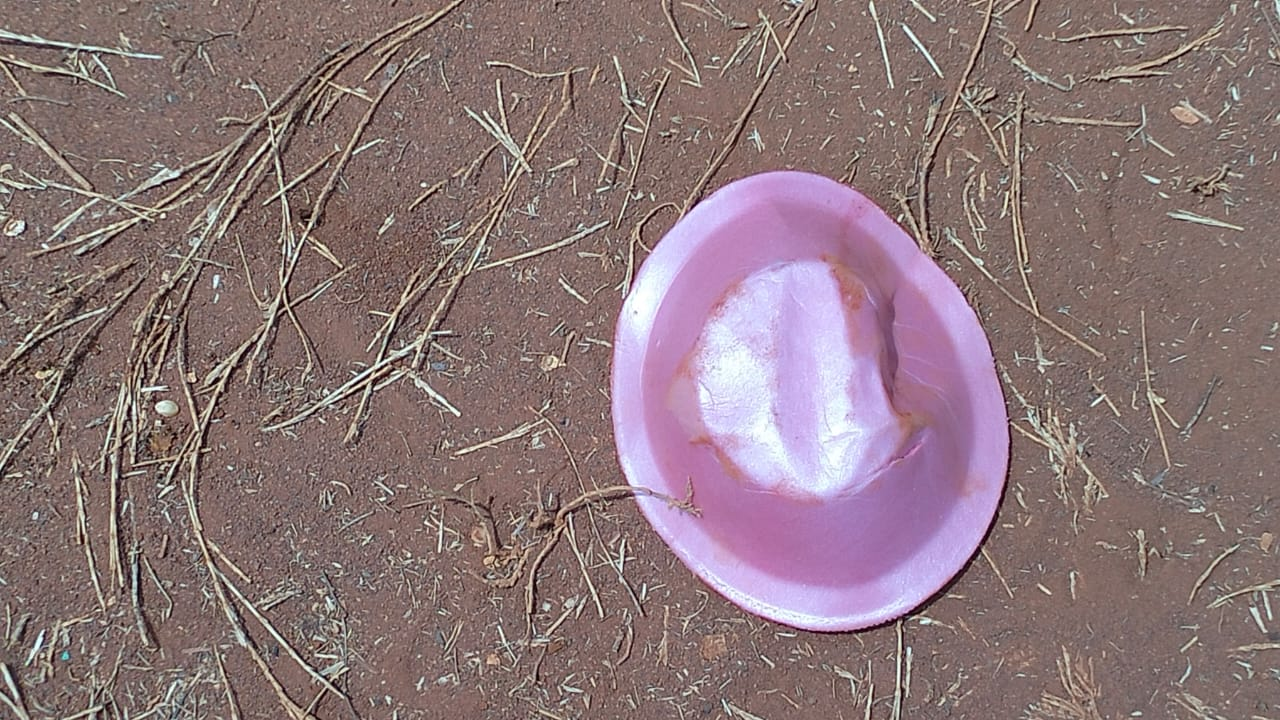plastic: (586, 151, 1027, 639)
